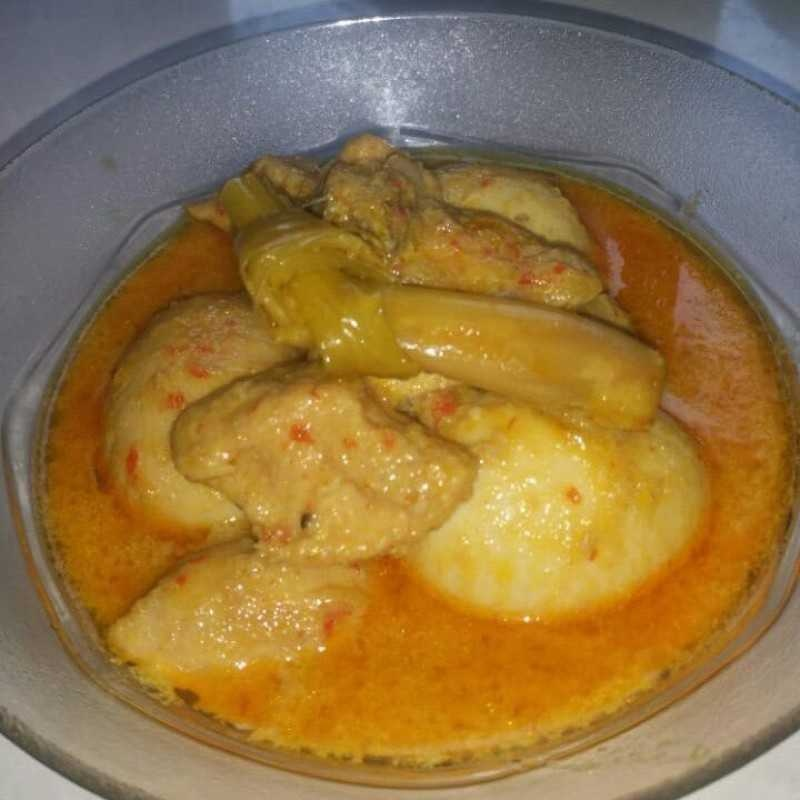gulai_ayam: (8, 97, 797, 759)
